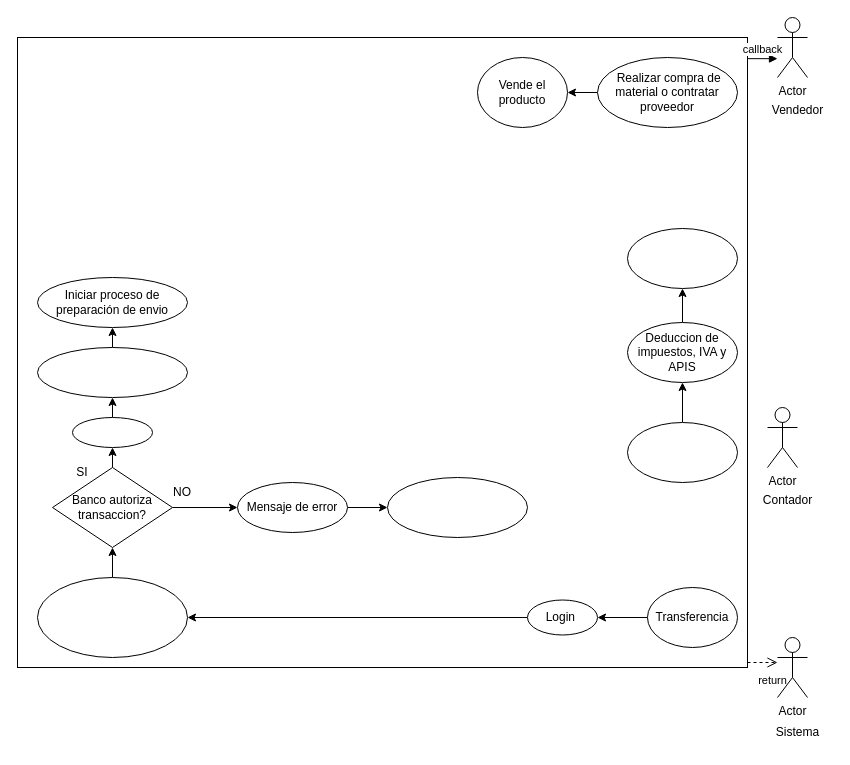
This 850x765 diagram has some shape labels left out. The centre of each missing label's shape, as x and y in pixels:
"Aprobacion" belongs at [112,432].
"Enviar correo de confirmacion de pedido al cliente" belongs at [112,372].
"Ingresar numero, fecha, cvv y confirmar pago" belongs at [112,617].
"Pagar SAT" belongs at [682,258].
"Reintentar o usar otro metodo" belongs at [457,507].
"Revisar ganancia bruta" belongs at [682,452].
